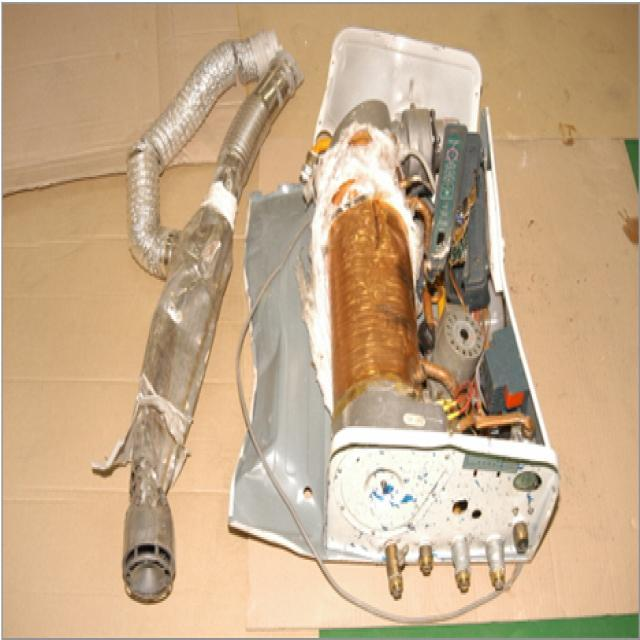Boiler: (236, 50, 524, 542)
